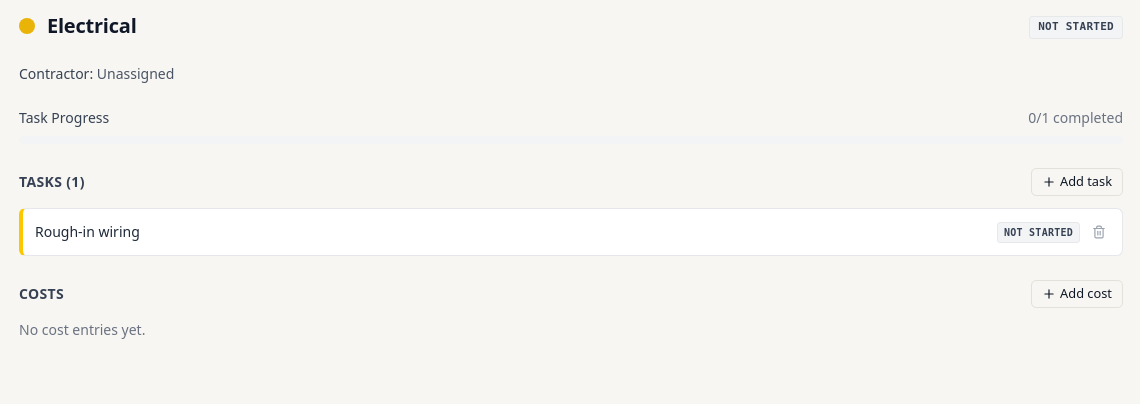
it: TradeScopeDetail › does not create a task for a blank title
The width and height of the screenshot is (1140, 404).
Click the button with test id "add-task-button".
click(1077, 182)  # box [1031,168,1123,196]
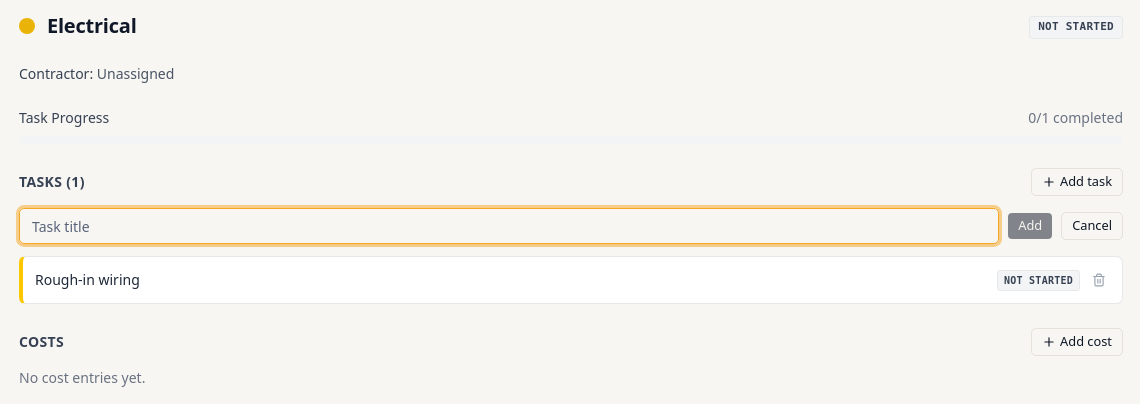
expect the button "Add" is disabled: met, box [1007,212,1053,240]
